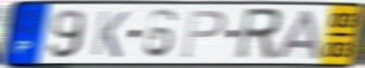6: (142, 7, 180, 61)
9: (46, 8, 87, 61)
A: (273, 8, 325, 61)
K: (89, 9, 131, 60)
P: (179, 9, 228, 60)
R: (233, 6, 285, 62)
